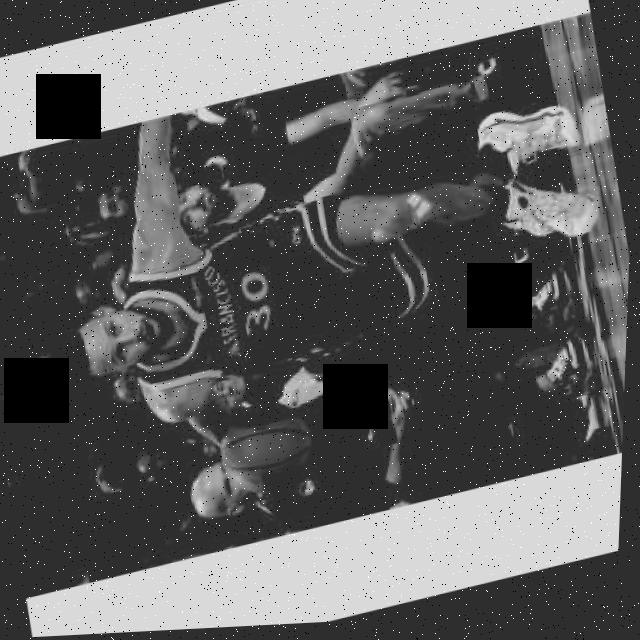shoe: (491, 167, 605, 259), (472, 98, 588, 186), (537, 334, 603, 412), (522, 266, 584, 340)
